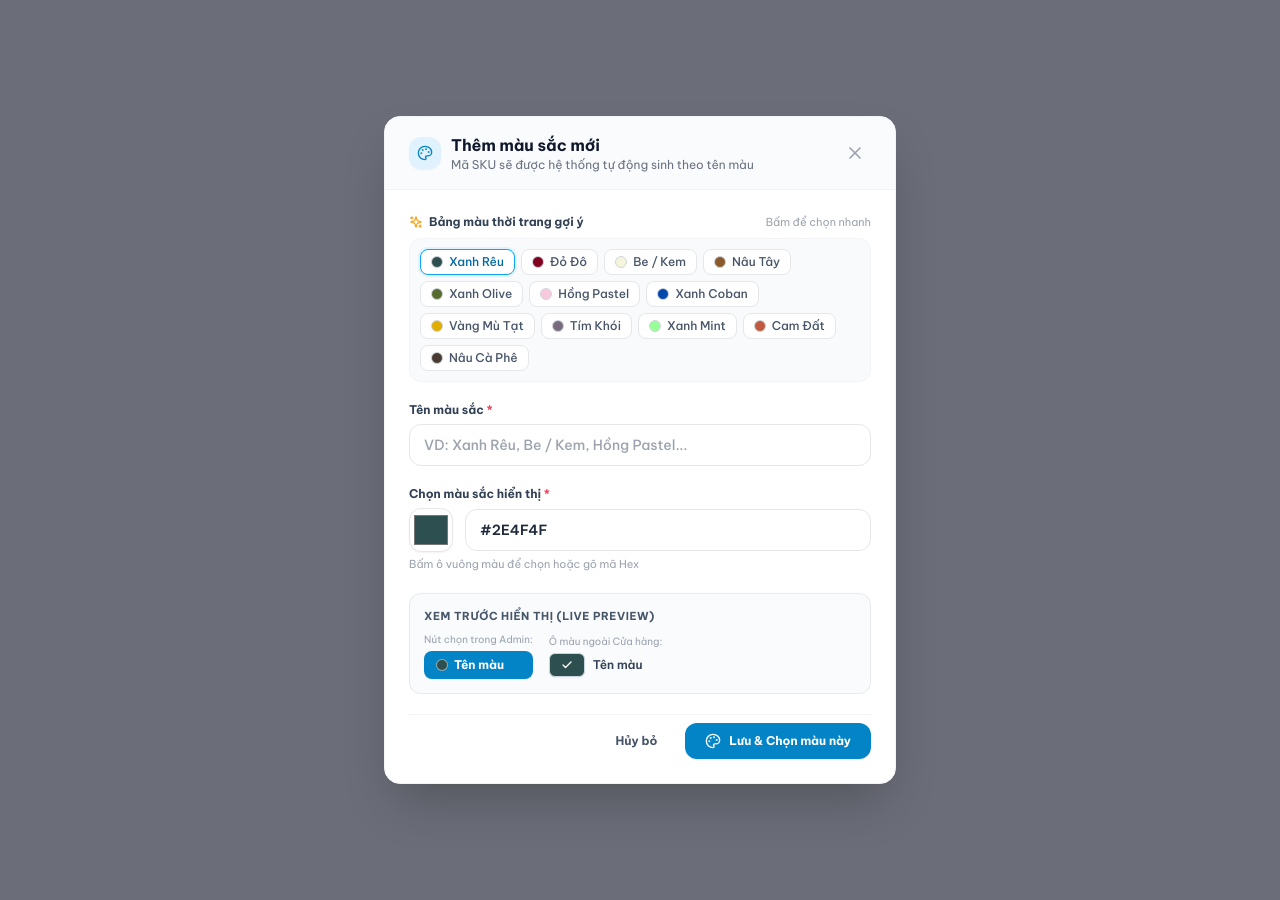
Test case: QuickAddColorModal Component › Bấm chọn bảng màu thịnh hành tự động điền thông tin và sinh mã SKU
Click the button "Đỏ Đô".
click(560, 262)  # box [521,249,598,275]
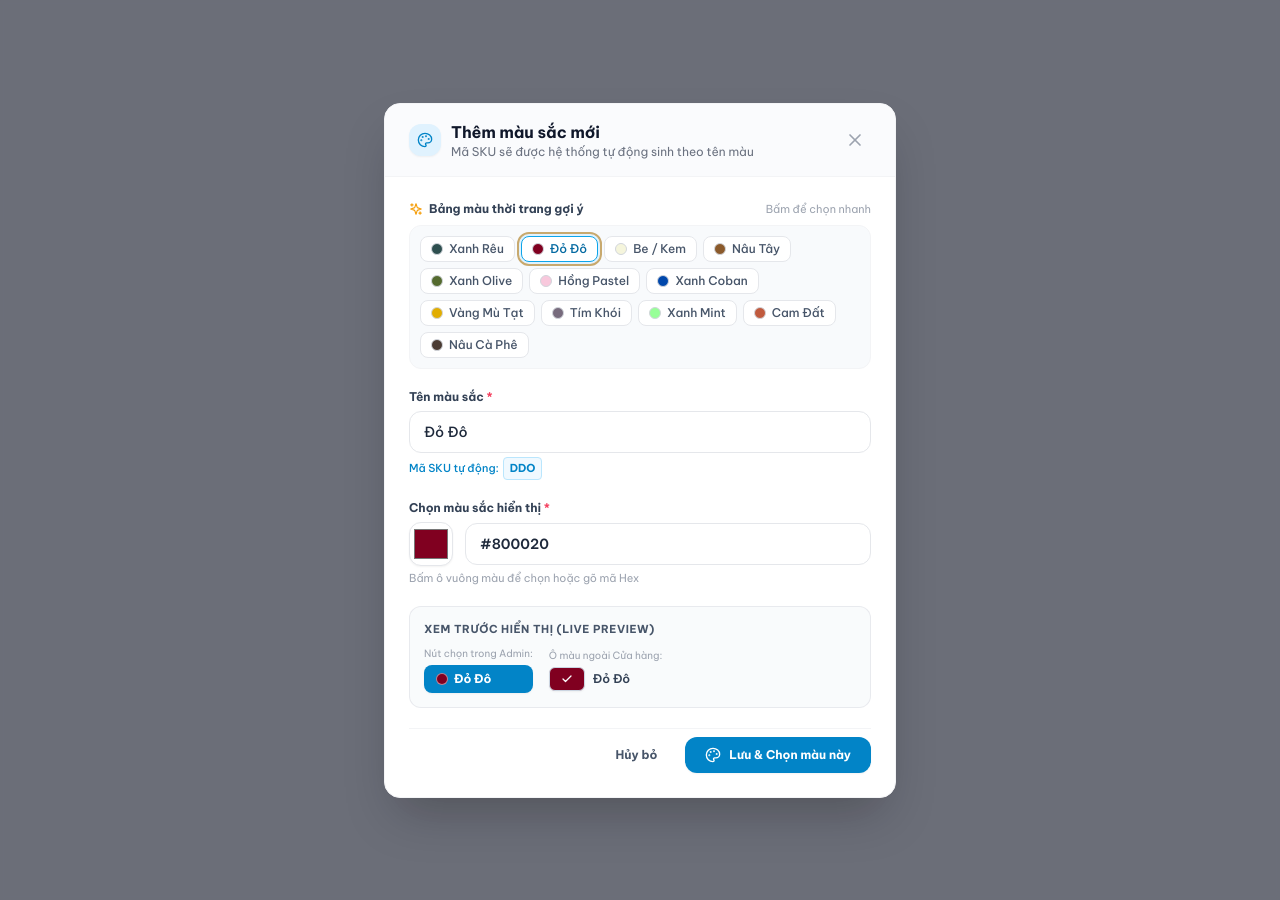
Check: the field with placeholder "VD: Xanh Rêu, Be / Kem, Hồng Pastel..." below "Tên màu sắc" holds "Đỏ Đô", box [409,411,871,453]
Check: the text "DDO" is shown, box [503,457,542,480]
